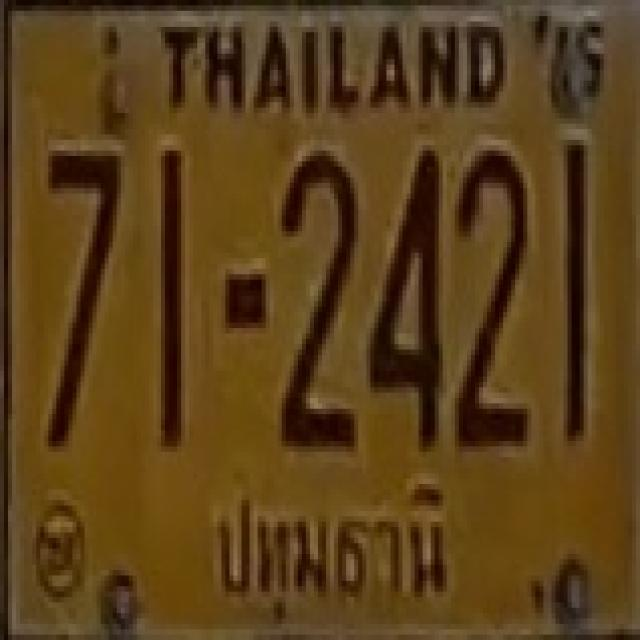1: (555, 118, 605, 467), (157, 148, 190, 452)
2: (449, 153, 534, 453), (278, 150, 361, 456)
4: (367, 143, 448, 451)
7: (41, 147, 125, 449)
PTE: (212, 471, 462, 628)
